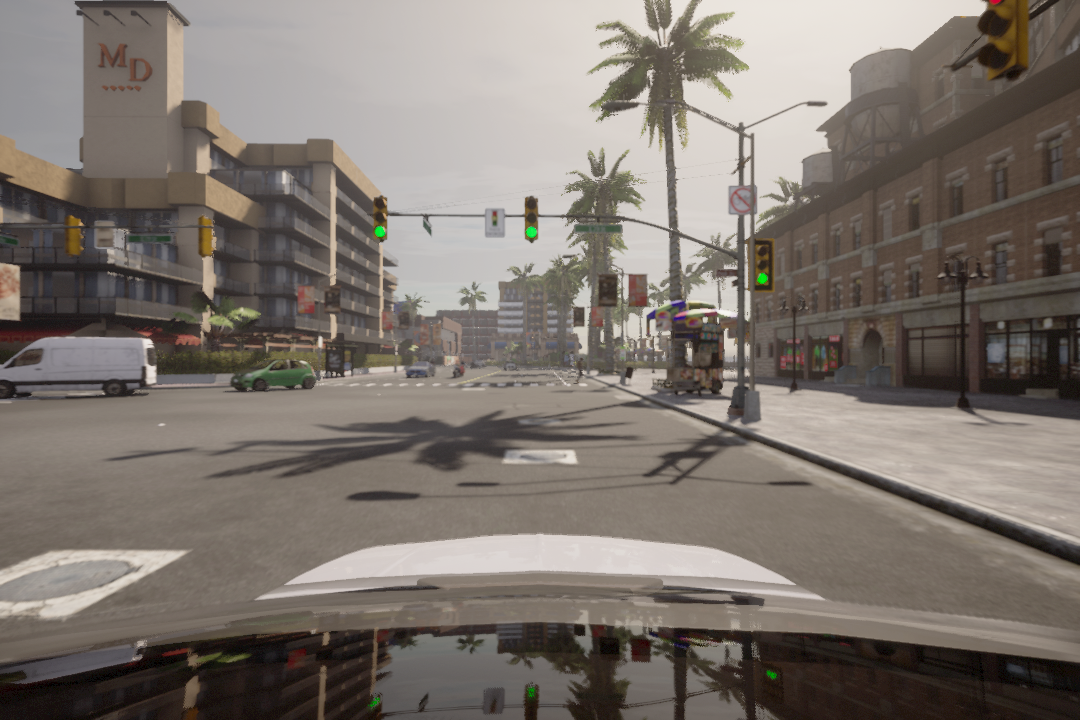TrafficLight: (981, 1, 1029, 78), (750, 239, 774, 286), (522, 195, 541, 243), (373, 197, 392, 242)
TrafficSign: (731, 183, 761, 217)
